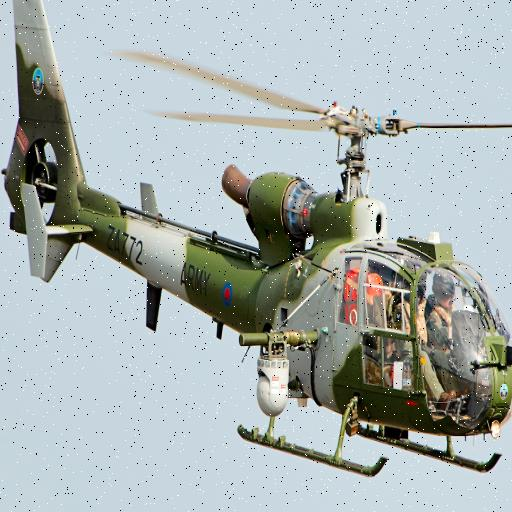helicopter: (4, 1, 512, 483)
